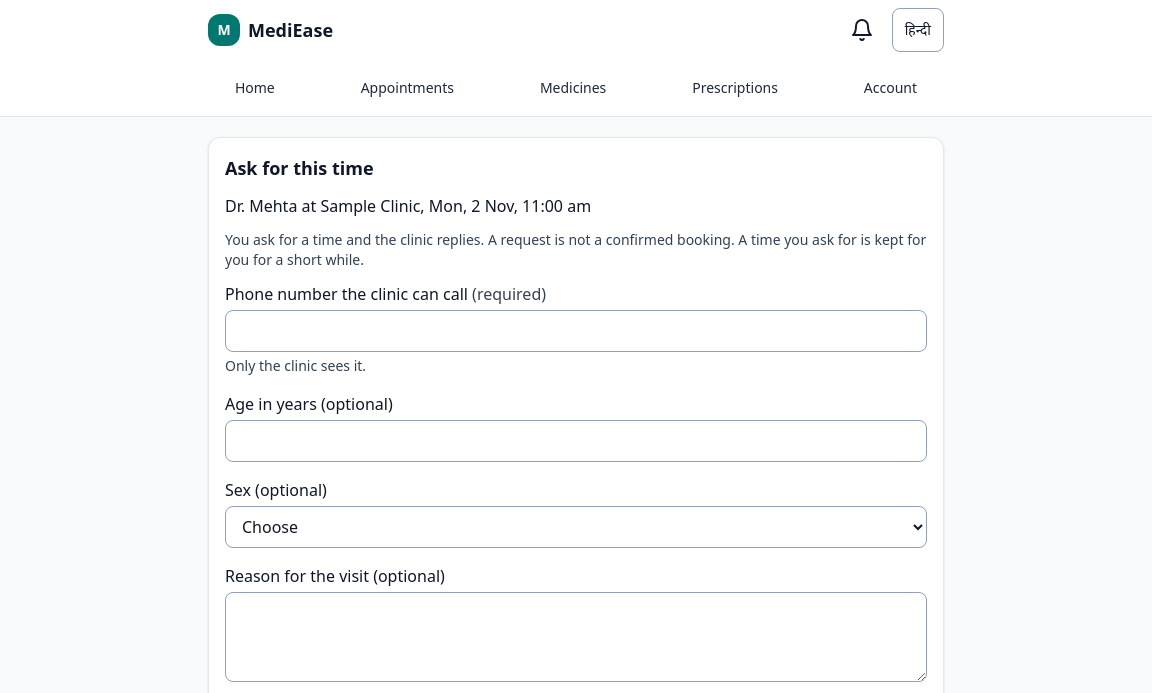
Test case: the request form (M6b-P4, FR-PUB-02, FR-BKG-01) › R15: a rate limit says how long to wait
Expected: the navigation bar is shown, [0,60,1151,116]
Type "9000000601" into the field labelled "Phone number the clinic can call (required)".
click(576, 331); type("9000000601")  # box [225,310,927,352]
(page scrolled)
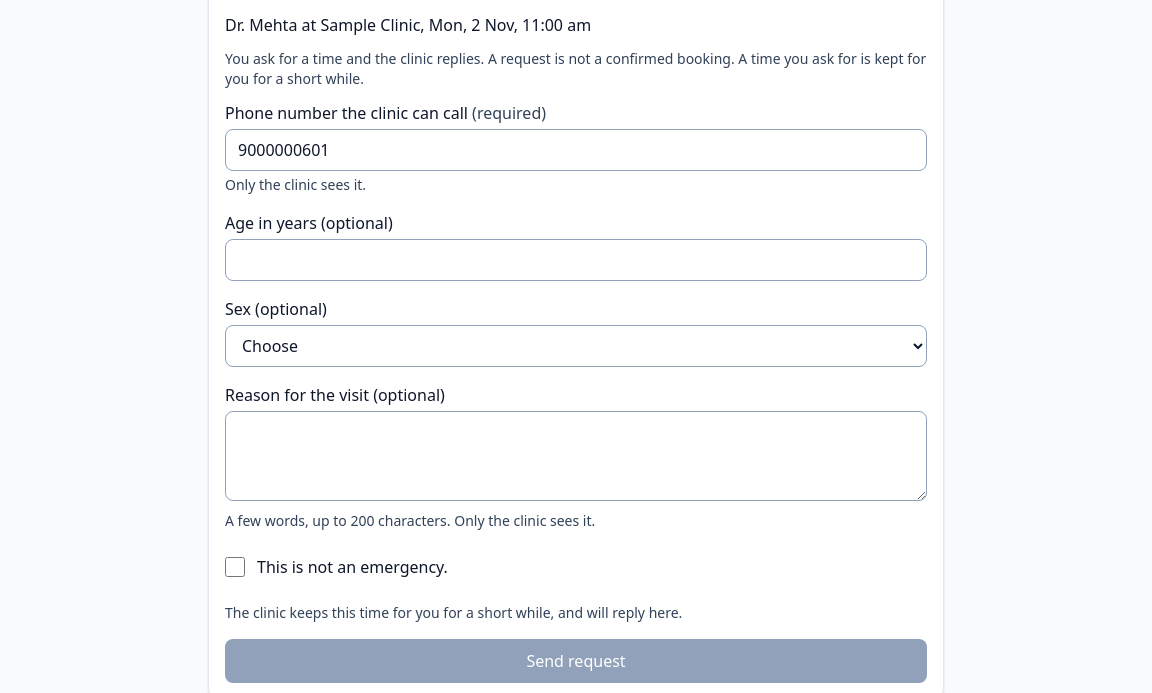
Click the checkbox labelled "This is not an emergency.".
click(235, 567)  # box [225,557,245,577]
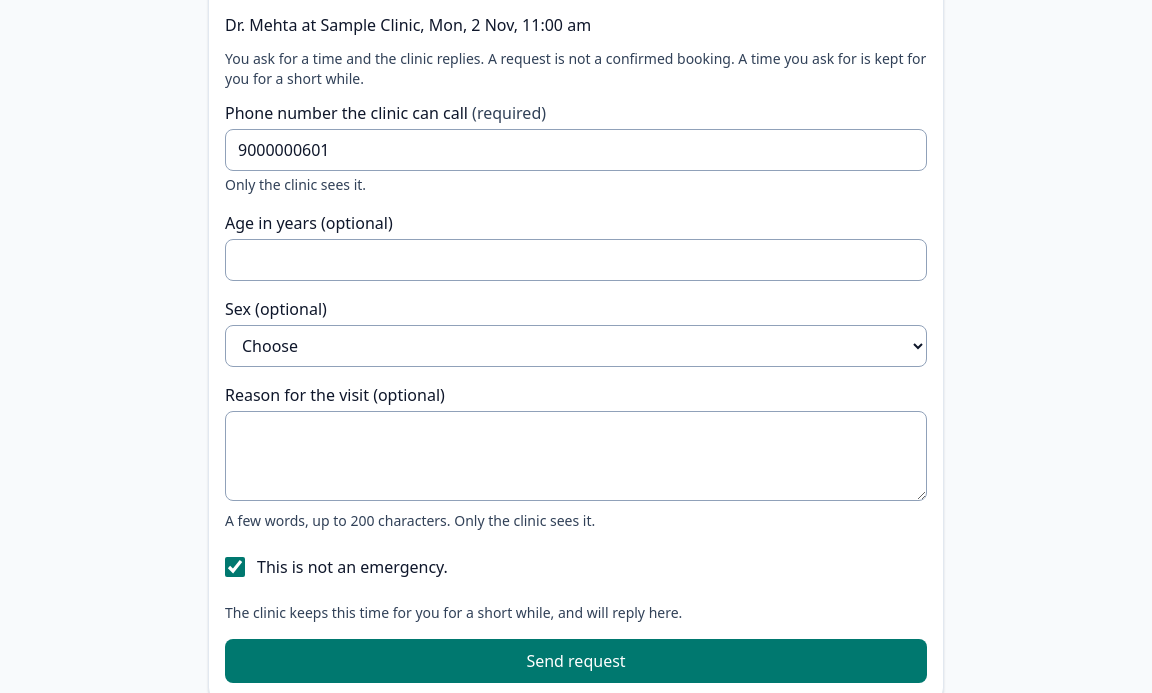
Click the button "Send request".
click(576, 661)  # box [225,639,927,683]
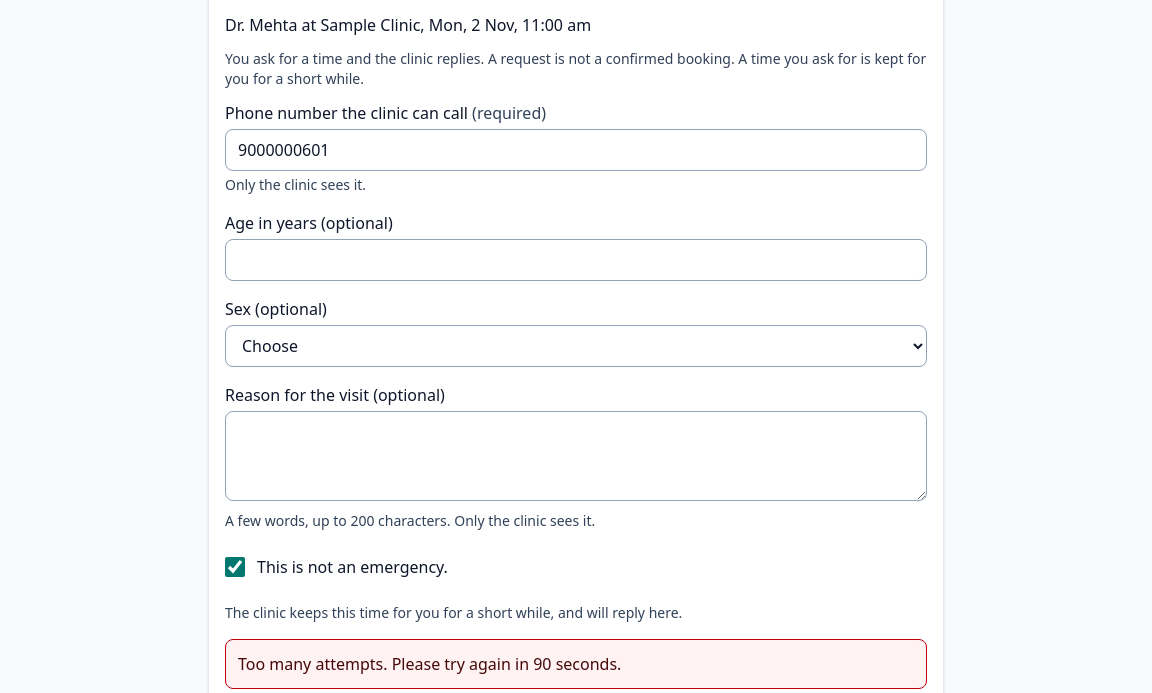
Result: the message shows "90 seconds" at [238,653,621,675]
